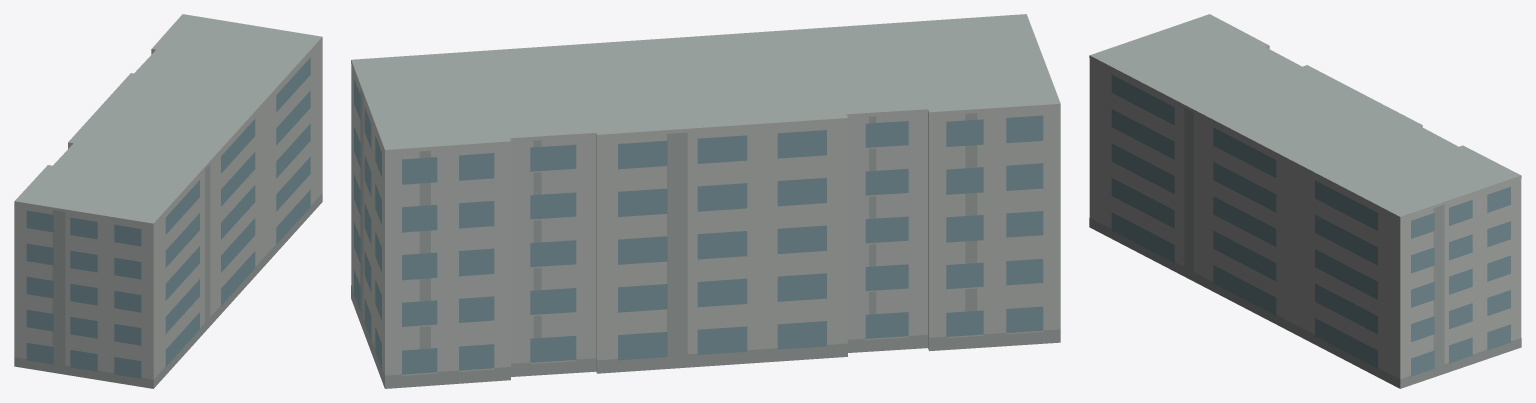
Rendered from survey-upis-32914290.glb.
3 views of the same model, side by side, from view 1: azimuth 30°, elevation 25°; view 2: azimuth 150°, elevation 25°; view 3: azimuth 270°, elevation 25° (orthographic). The views are drawn at different scales.
Parts seen in each view (by area): view 1: survey-upis-32914290.tmp; view 2: survey-upis-32914290.tmp; view 3: survey-upis-32914290.tmp.
Part boxes in pixels (box(x1,y1,x2,y2)): survey-upis-32914290.tmp: box(14, 14, 322, 388); survey-upis-32914290.tmp: box(351, 14, 1060, 388); survey-upis-32914290.tmp: box(1089, 14, 1521, 388).
Bounding box in the file's own units: 38.59 × 15.25 × 34.71.
